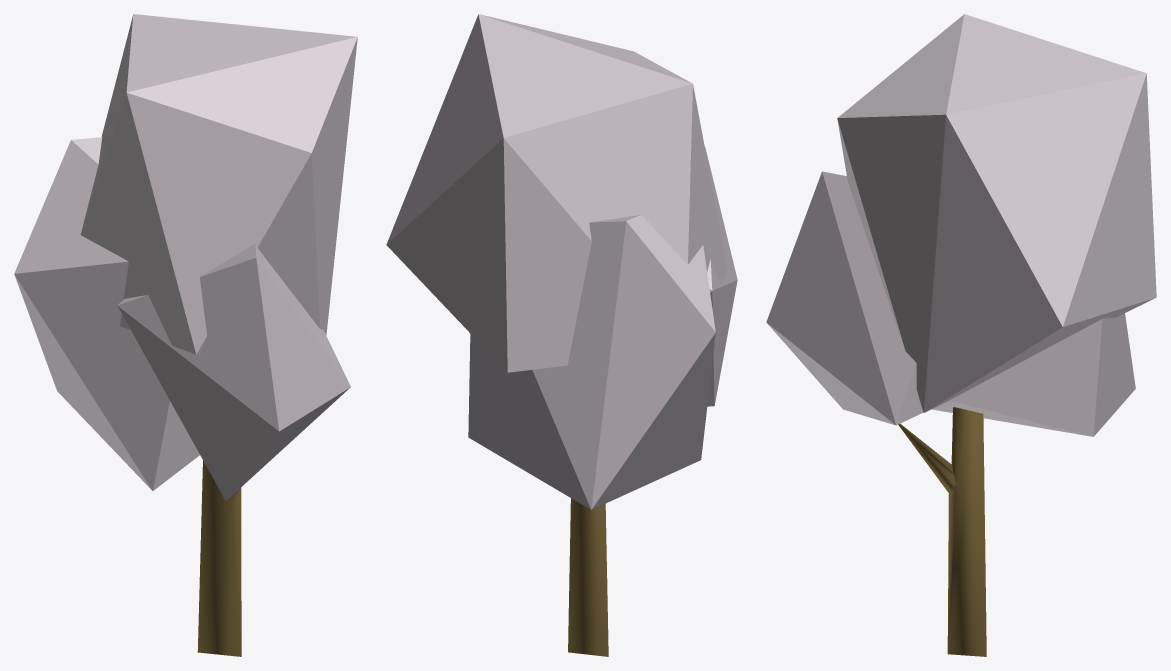
File: Snowy Forest Tree 2 (Low Quality).fbx
3 views of the same model, side by side, from view 1: azimuth 30°, elevation 25°; view 2: azimuth 150°, elevation 25°; view 3: azimuth 270°, elevation 25° (orthographic).
Visible parts, largest first — view 1: Icosphere.003, Cylinder.004; view 2: Icosphere.003, Cylinder.004; view 3: Icosphere.003, Cylinder.004.
Boxes of the visible parts, x1,y1,x2,y2 form: Icosphere.003: (14,14,357,500); Cylinder.004: (197,460,241,656); Icosphere.003: (386,14,737,509); Cylinder.004: (568,498,608,656); Icosphere.003: (766,14,1156,436); Cylinder.004: (898,407,986,656).
Size of the model in its own units: 779 by 1365 by 810.
